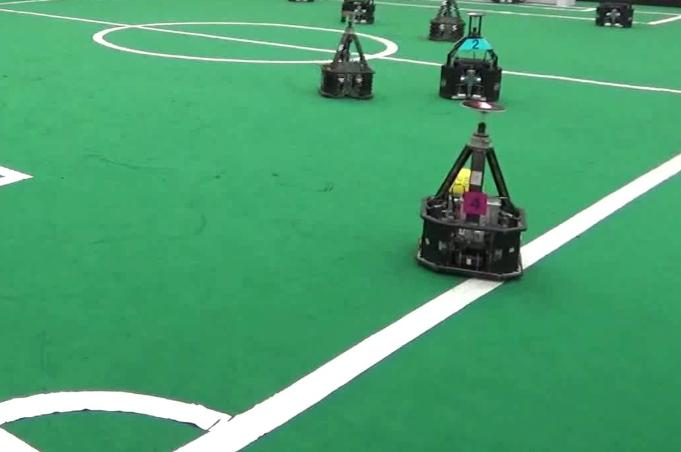robot: (415, 106, 530, 281), (436, 2, 509, 104), (313, 4, 378, 102)
